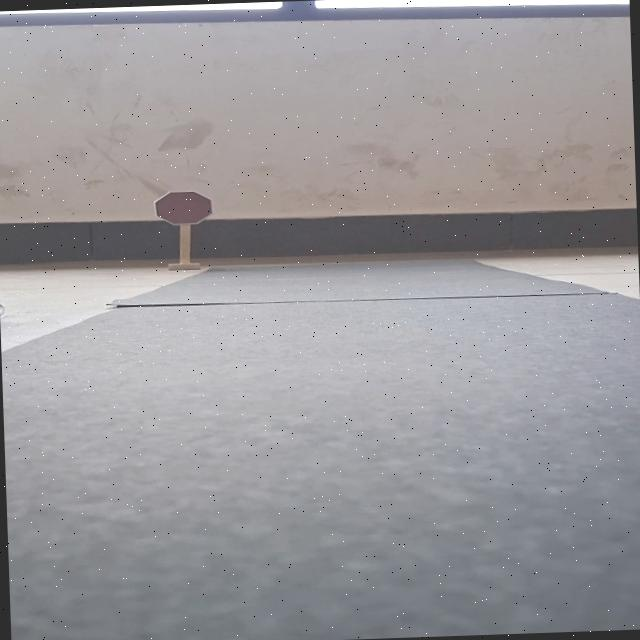Stop: (153, 189, 214, 226)
